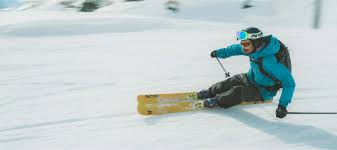skis: (135, 89, 270, 116)
